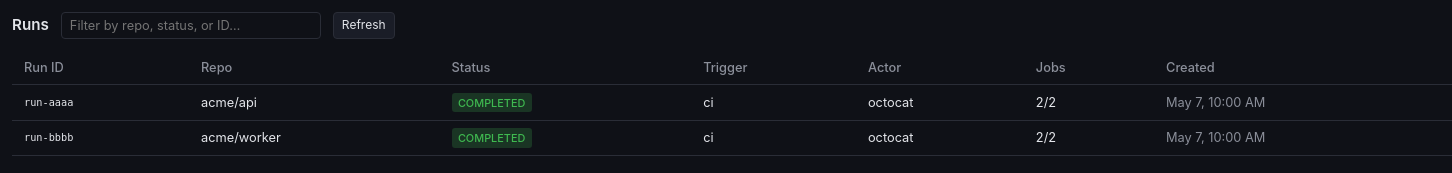
Test case: RunsView › filters runs by text
Expected: the text "acme/api" is shown, [189,85,440,120]
Type "worker" into the field named "Filter runs" at (191, 25), box [61,12,321,39]
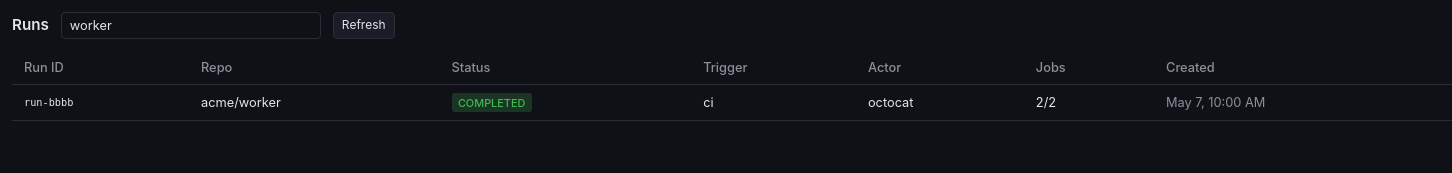
Expected: the text "acme/worker" is shown, [189,85,440,120]
Now the text "acme/api" is gone
